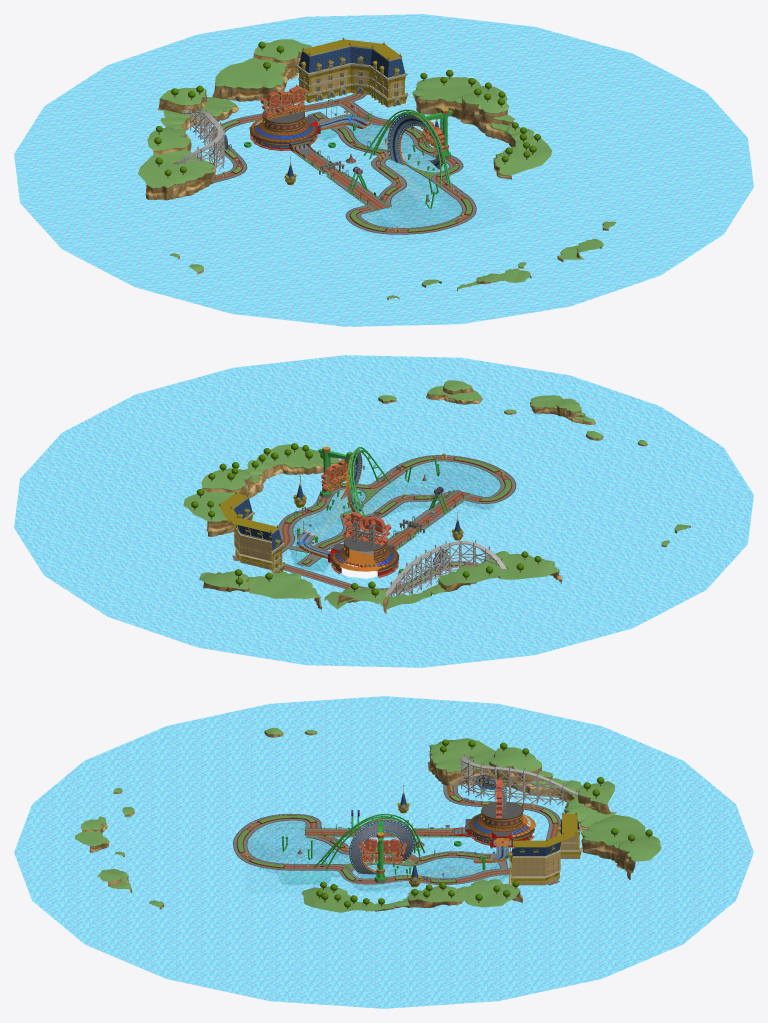
Rendered from track1.glb.
3 views of the same model, one above another, from view 1: azimuth 30°, elevation 25°; view 2: azimuth 150°, elevation 25°; view 3: azimuth 270°, elevation 25° (orthographic).
Parts seen in each view (by area): view 1: Sea_Out__ef_sea_112, group1239_polySurface83155_park_Outsaide_Grass__park_Outsai0, di_rock_1__park_Outsaide_WallRock_88, Sea_B__ef_waterB_114, loftedSurface795_park_Kaidan_park_yuka1__park_RoadB_59, group2952_pCube2093_park_Hotel_Iwa00_2__park_Hotel_Iwa00_2_L, polySurface8362681_park_Road__park_Road_6, extrudedSurface5__park_Water_Hei_Dokan_Out_86, loftedSurface963__park_Outside_hashi_55, loftedSurface795_park_Kaidan_park_Kaidan__park_Kaidan_60, pCylinder1644_park_Hotel_yane_1__park_Hotel_yane_35, group1239_polySurface83155_park_Outsaide_Grass1__park_Outsa0 (+13 smaller); view 2: Sea_Out__ef_sea_112, group1239_polySurface83155_park_Outsaide_Grass__park_Outsai0, Sea_B__ef_waterB_114, loftedSurface795_park_Kaidan_park_yuka1__park_RoadB_59, loftedSurface963__park_Outside_hashi_55, di_rock_1__park_Outsaide_WallRock_88, group1239_polySurface83155_park_Outsaide_Grass1__park_Outsa0, polySurface8362681_park_Road__park_Road_6, group2952_pCube2093_park_Hotel_Iwa00_2__park_Hotel_Iwa00_2_L, pCube1888__park_Outsaide_MetalRed_48, loftedSurface795_park_Kaidan_park_Kaidan__park_Kaidan_60, extrudedSurface5__park_Water_Hei_Dokan_Out_86 (+11 smaller); view 3: Sea_Out__ef_sea_112, group1239_polySurface83155_park_Outsaide_Grass__park_Outsai0, Sea_B__ef_waterB_114, di_rock_1__park_Outsaide_WallRock_88, loftedSurface795_park_Kaidan_park_yuka1__park_RoadB_59, loftedSurface963__park_Outside_hashi_55, group2952_pCube2093_park_Hotel_Iwa00_2__park_Hotel_Iwa00_2_L, polySurface8362681_park_Road__park_Road_6, loftedSurface795_park_Kaidan_park_Kaidan__park_Kaidan_60, extrudedSurface5__park_Water_Hei_Dokan_Out_86, pCylinderShape2218_park_Hotel_Iwa00__park_Hotel_Iwa00_29, group1239_polySurface83155_park_Outsaide_Grass1__park_Outsa0 (+11 smaller).
Part boxes in pixels (x1,y1,x2,y2): Sea_Out__ef_sea_112: (14,14,753,326); group1239_polySurface83155_park_Outsaide_Grass__park_Outsai0: (138,39,551,188); di_rock_1__park_Outsaide_WallRock_88: (145,52,515,200); Sea_B__ef_waterB_114: (345,124,461,227); loftedSurface795_park_Kaidan_park_yuka1__park_RoadB_59: (212,93,475,234); group2952_pCube2093_park_Hotel_Iwa00_2__park_Hotel_Iwa00_2_L: (285,37,442,184); polySurface8362681_park_Road__park_Road_6: (214,93,469,232); extrudedSurface5__park_Water_Hei_Dokan_Out_86: (244,109,452,208); loftedSurface963__park_Outside_hashi_55: (175,61,397,180); loftedSurface795_park_Kaidan_park_Kaidan__park_Kaidan_60: (210,92,476,234); pCylinder1644_park_Hotel_yane_1__park_Hotel_yane_35: (287,47,438,178); group1239_polySurface83155_park_Outsaide_Grass1__park_Outsa0: (170,221,615,298); Sea_Out__ef_sea_112: (14,355,753,667); group1239_polySurface83155_park_Outsaide_Grass__park_Outsai0: (183,444,559,609); Sea_B__ef_waterB_114: (292,461,500,546); loftedSurface795_park_Kaidan_park_yuka1__park_RoadB_59: (232,455,515,592); loftedSurface963__park_Outside_hashi_55: (247,501,506,603); di_rock_1__park_Outsaide_WallRock_88: (202,463,562,614); group1239_polySurface83155_park_Outsaide_Grass1__park_Outsa0: (378,380,690,545); polySurface8362681_park_Road__park_Road_6: (233,456,509,591); group2952_pCube2093_park_Hotel_Iwa00_2__park_Hotel_Iwa00_2_L: (218,491,463,572); pCube1888__park_Outsaide_MetalRed_48: (321,449,398,577); loftedSurface795_park_Kaidan_park_Kaidan__park_Kaidan_60: (232,455,516,593); extrudedSurface5__park_Water_Hei_Dokan_Out_86: (297,447,448,573); Sea_Out__ef_sea_112: (14,696,753,1008); group1239_polySurface83155_park_Outsaide_Grass__park_Outsai0: (302,738,661,912); Sea_B__ef_waterB_114: (247,820,500,878); di_rock_1__park_Outsaide_WallRock_88: (302,747,635,911); loftedSurface795_park_Kaidan_park_yuka1__park_RoadB_59: (234,784,560,884); loftedSurface963__park_Outside_hashi_55: (403,754,577,882); group2952_pCube2093_park_Hotel_Iwa00_2__park_Hotel_Iwa00_2_L: (397,803,581,887); polySurface8362681_park_Road__park_Road_6: (240,786,558,884); loftedSurface795_park_Kaidan_park_Kaidan__park_Kaidan_60: (233,784,561,885); extrudedSurface5__park_Water_Hei_Dokan_Out_86: (281,814,485,880); pCylinderShape2218_park_Hotel_Iwa00__park_Hotel_Iwa00_29: (399,807,578,885); group1239_polySurface83155_park_Outsaide_Grass1__park_Outsa0: (75,727,316,907).
Size of what is drawn, in the model's own units: 484 by 48.85 by 484.
Materials: 80 (75 with a texture image).
